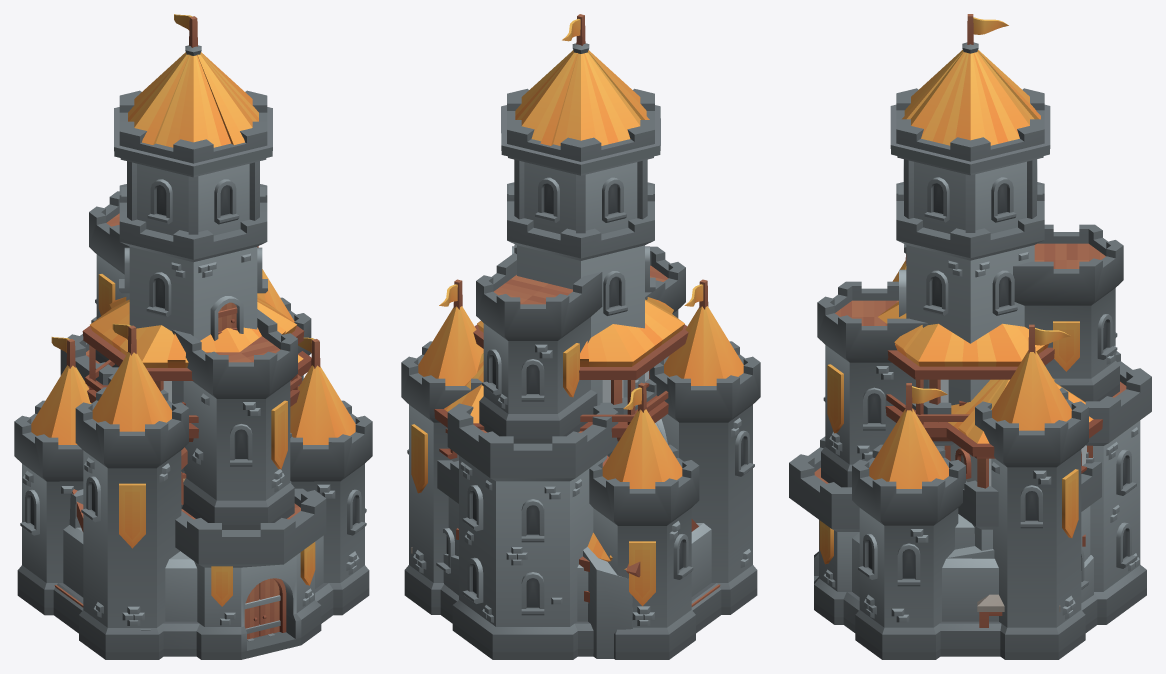
The model's file is oasis.glb.
3 views of the same model, side by side, from view 1: azimuth 30°, elevation 25°; view 2: azimuth 150°, elevation 25°; view 3: azimuth 270°, elevation 25° (orthographic).
Visible parts, largest first — view 1: building_castle_yellow, building_tower_B_top_yellow; view 2: building_castle_yellow, building_tower_B_top_yellow, building_mine_yellow, building_archeryrange_yellow; view 3: building_castle_yellow, building_tower_B_top_yellow, building_archeryrange_yellow, building_mine_yellow, building_market_yellow.
Part boxes in pixels (x1,y1,x2,y2): building_castle_yellow: (14, 14, 372, 659); building_tower_B_top_yellow: (82, 296, 304, 441); building_castle_yellow: (401, 14, 760, 659); building_tower_B_top_yellow: (473, 297, 688, 441); building_mine_yellow: (443, 547, 632, 658); building_archeryrange_yellow: (434, 353, 698, 577); building_castle_yellow: (789, 14, 1151, 659); building_tower_B_top_yellow: (878, 301, 1054, 441); building_archeryrange_yellow: (938, 378, 1102, 589); building_mine_yellow: (947, 514, 1093, 602); building_market_yellow: (977, 534, 1085, 627).
Size of the model in its own units: 1.98 by 3.98 by 2.26.
Materials: 1 (1 with a texture image).
